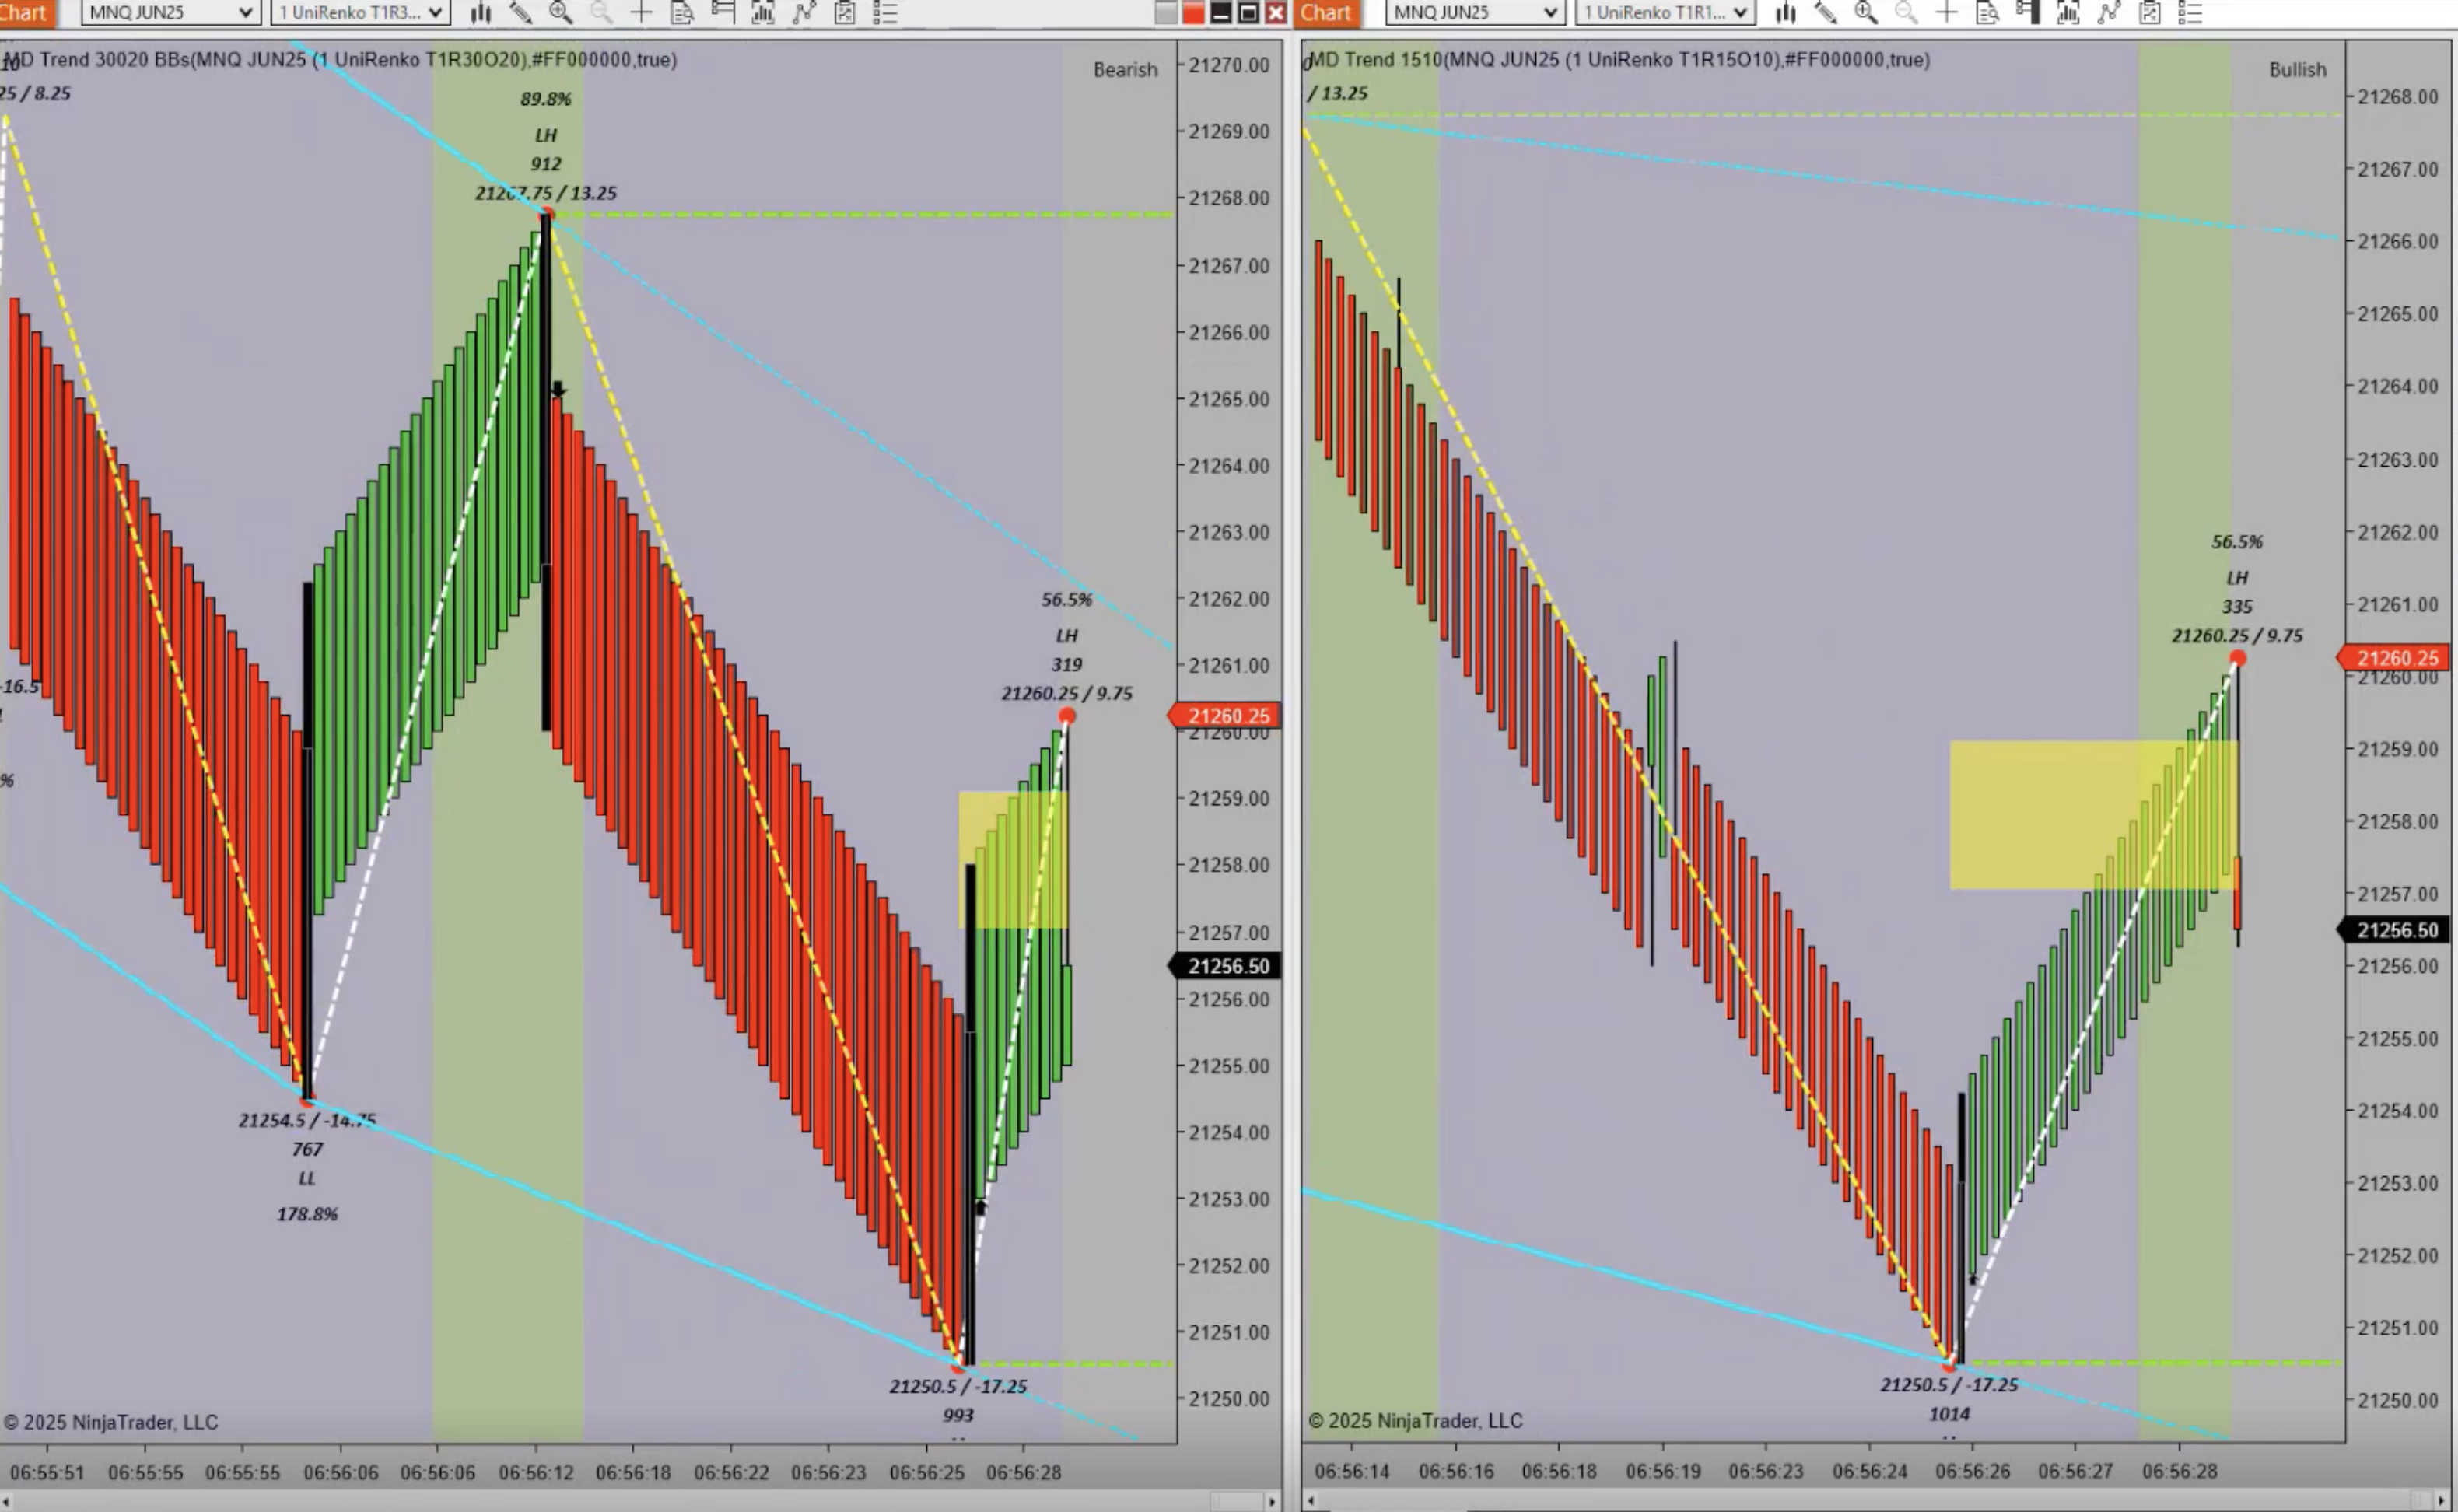candle: (541, 207, 558, 736), (302, 581, 314, 1106), (966, 864, 976, 1363), (1959, 1091, 1968, 1379)
